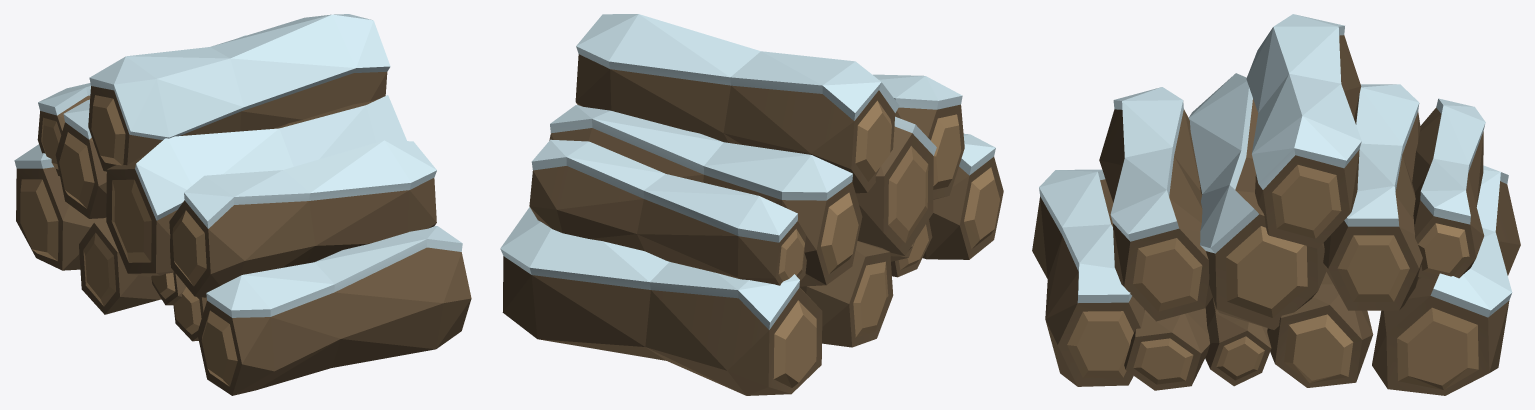
File: Pila_Troncos.glb
3 views of the same model, side by side, from view 1: azimuth 30°, elevation 25°; view 2: azimuth 150°, elevation 25°; view 3: azimuth 270°, elevation 25° (orthographic). The views are drawn at different scales.
Parts seen in each view (by area): view 1: SM_Prop_Logs_01_Snow; view 2: SM_Prop_Logs_01_Snow; view 3: SM_Prop_Logs_01_Snow.
Boxes of the visible parts, x1,y1,x2,y2 form: SM_Prop_Logs_01_Snow: [14, 14, 471, 395]; SM_Prop_Logs_01_Snow: [500, 14, 1003, 395]; SM_Prop_Logs_01_Snow: [1032, 14, 1520, 395].
Size of the model in its own units: 1.13 by 1.01 by 1.68.
Materials: 1 (1 with a texture image).
